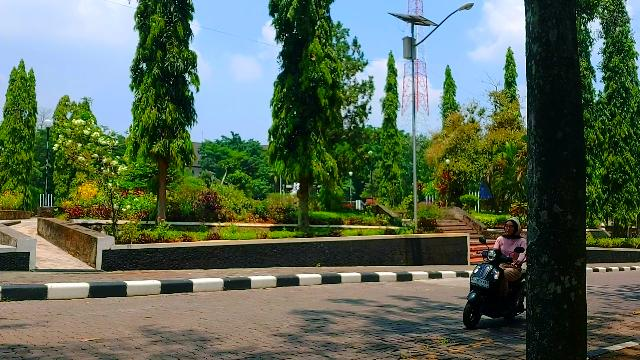motor: (465, 250, 528, 330)
non-helm: (506, 218, 522, 236)
